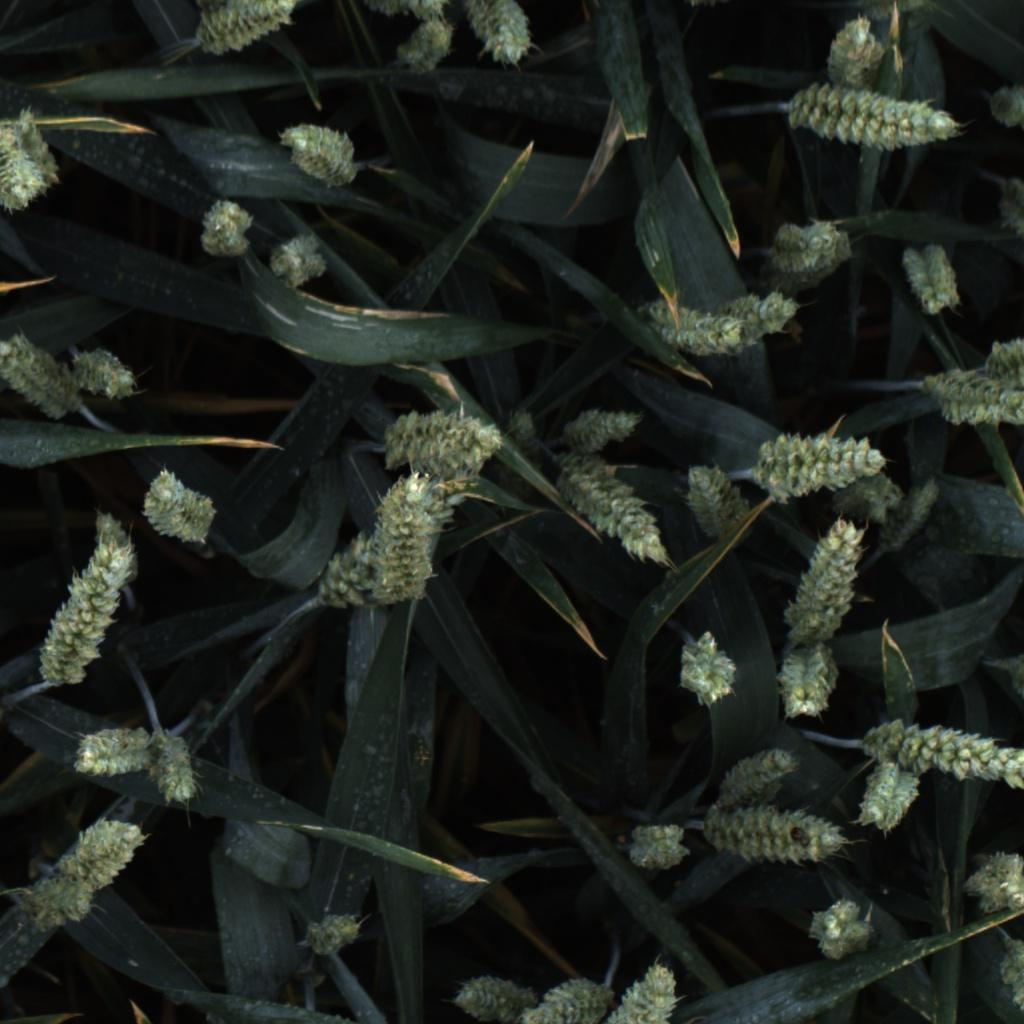0-0: (42, 527, 135, 688), (364, 464, 456, 612), (787, 83, 965, 156), (557, 456, 670, 569), (857, 717, 1024, 791), (375, 399, 509, 489), (749, 428, 892, 508), (782, 519, 867, 642), (697, 804, 848, 865), (59, 805, 149, 895), (702, 739, 800, 821), (140, 460, 222, 554), (0, 327, 76, 427), (763, 211, 864, 284), (8, 869, 108, 938), (644, 296, 739, 367), (313, 521, 384, 616), (187, 0, 303, 58), (869, 472, 939, 563), (922, 366, 1024, 428), (277, 116, 362, 189), (678, 459, 751, 543), (63, 718, 154, 784), (769, 642, 842, 723), (456, 0, 541, 69), (721, 287, 808, 353), (5, 98, 66, 191), (803, 895, 880, 964), (188, 190, 259, 264), (144, 718, 202, 808), (822, 12, 888, 91), (263, 222, 336, 293), (600, 961, 682, 1024), (829, 466, 909, 530), (678, 631, 740, 713), (0, 113, 50, 214), (898, 241, 963, 318), (294, 904, 372, 968), (69, 339, 142, 407), (961, 843, 1024, 919), (558, 404, 645, 459), (526, 974, 619, 1024), (451, 974, 543, 1024), (622, 817, 692, 873), (391, 18, 456, 74), (858, 755, 904, 828), (874, 768, 923, 836), (503, 409, 545, 482), (987, 172, 1024, 251), (86, 500, 135, 559), (986, 315, 1024, 387), (985, 81, 1024, 137), (855, 0, 931, 24), (359, 0, 454, 18), (1006, 638, 1024, 709)
